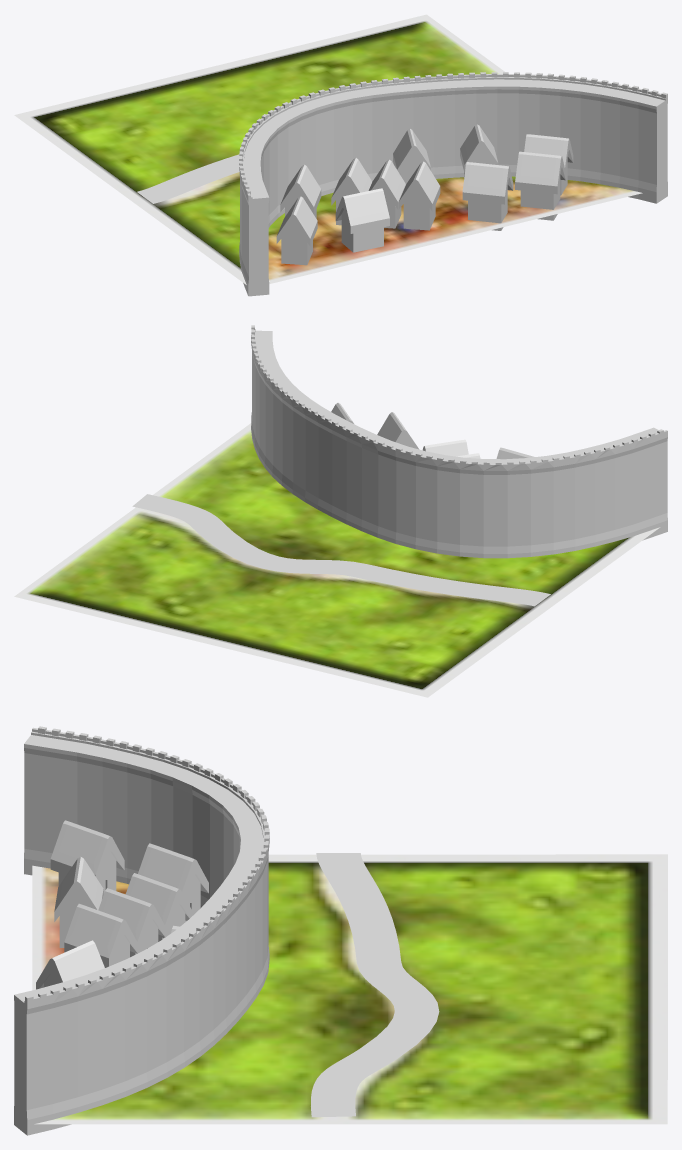
File: tile3.fbx
The picture shows the model from 3 angles, top to bottom: view 1: azimuth 30°, elevation 25°; view 2: azimuth 150°, elevation 25°; view 3: azimuth 270°, elevation 25°; orthographic projection. The views are drawn at different scales.
Visible parts, largest first — view 1: tile3; view 2: tile3; view 3: tile3.
Part boxes in pixels (<box>): tile3: <box>14,14,667,296</box>; tile3: <box>14,325,667,697</box>; tile3: <box>14,726,667,1135</box>.
Bounding box in the file's own units: 101 × 24.51 × 102.
